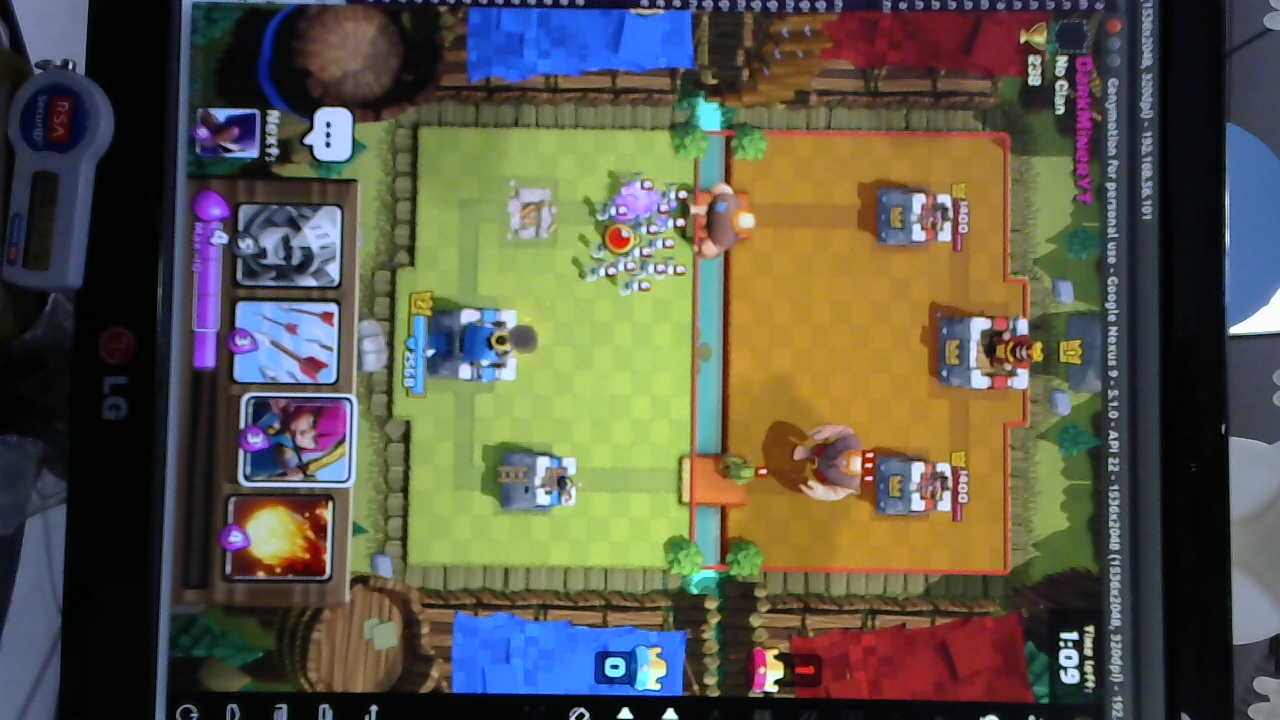skeletonarmyE: (589, 171, 688, 298)
